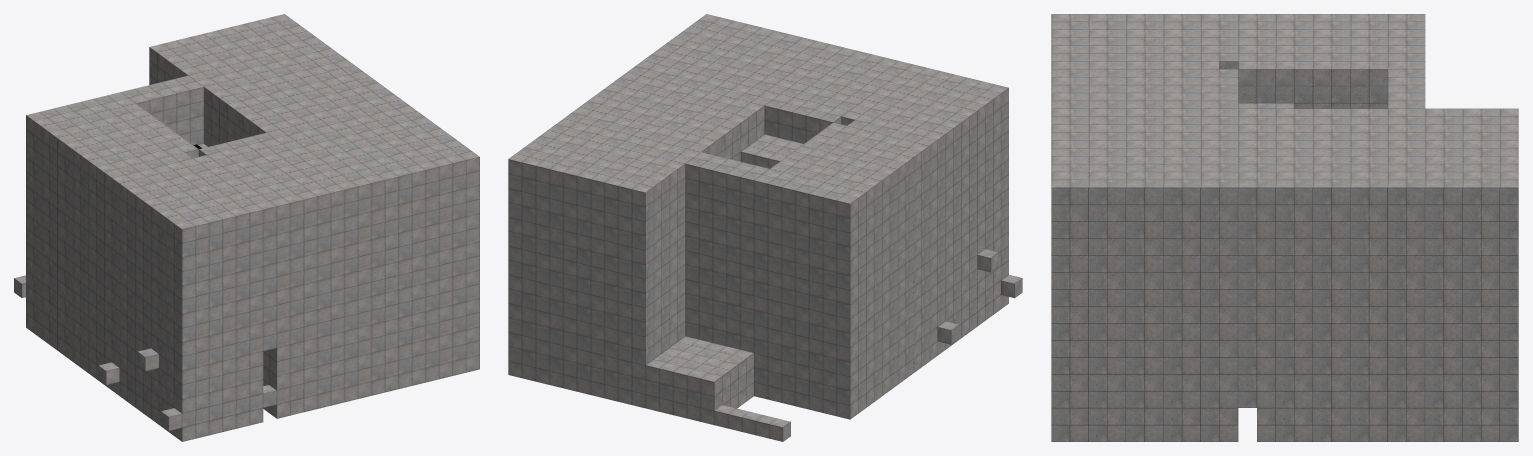
File: PlayUpGrp4.dae
3 renders of one model, left to right at view 1: azimuth 30°, elevation 25°; view 2: azimuth 150°, elevation 25°; view 3: azimuth 270°, elevation 25°, orthographic. The views are drawn at different scales.
Visible parts, largest first — view 1: mesh0%root%0%; view 2: mesh0%root%0%; view 3: mesh0%root%0%.
Boxes of the visible parts, left/top/right/bottom form: mesh0%root%0%: left=14, top=14, right=479, bottom=441; mesh0%root%0%: left=508, top=14, right=1022, bottom=441; mesh0%root%0%: left=1051, top=14, right=1518, bottom=441.
Bounding box in the file's own units: 23 × 15 × 25.
